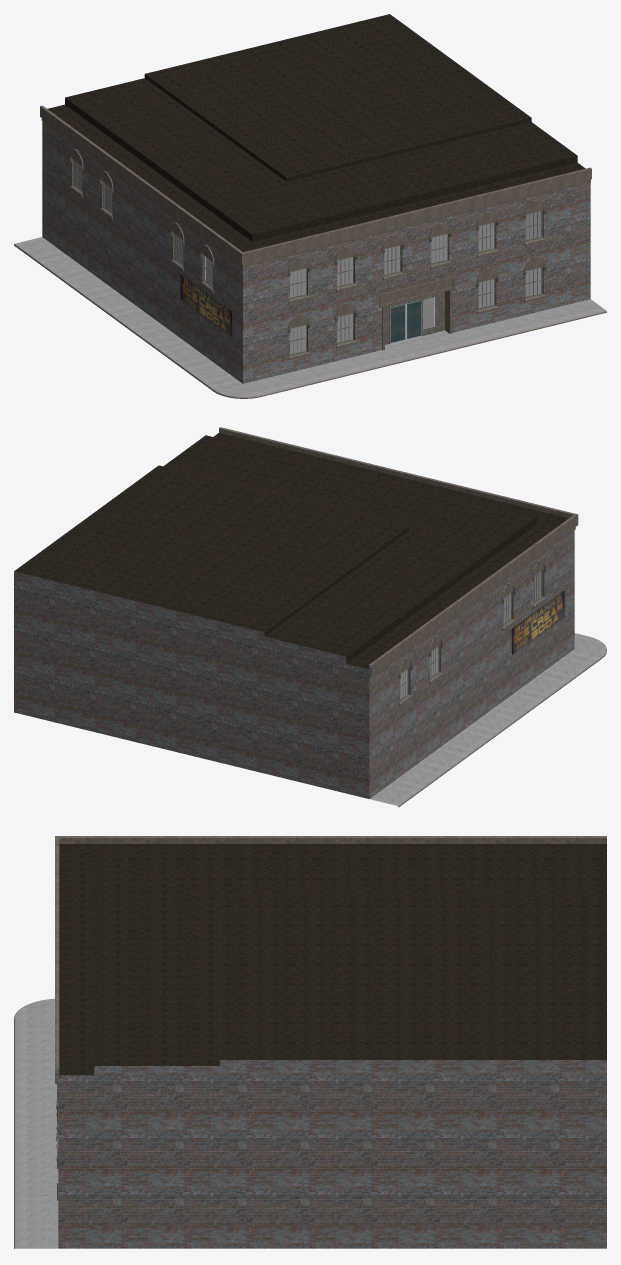
File: city_building_downtown-v1.glb
3 views of the same model, one above another, from view 1: azimuth 30°, elevation 25°; view 2: azimuth 150°, elevation 25°; view 3: azimuth 270°, elevation 25° (orthographic). The views are drawn at different scales.
Visible parts, largest first — view 1: Material2 (×9); view 2: Material2 (×7); view 3: Material2 (×4).
Part boxes in pixels (x1,y1,x2,y2): Material2 (×9): (14, 14, 606, 398); Material2 (×7): (14, 427, 606, 807); Material2 (×4): (15, 836, 606, 1248).
Bounding box in the file's own units: 960 × 341 × 960.
12 materials, 8 textured.
